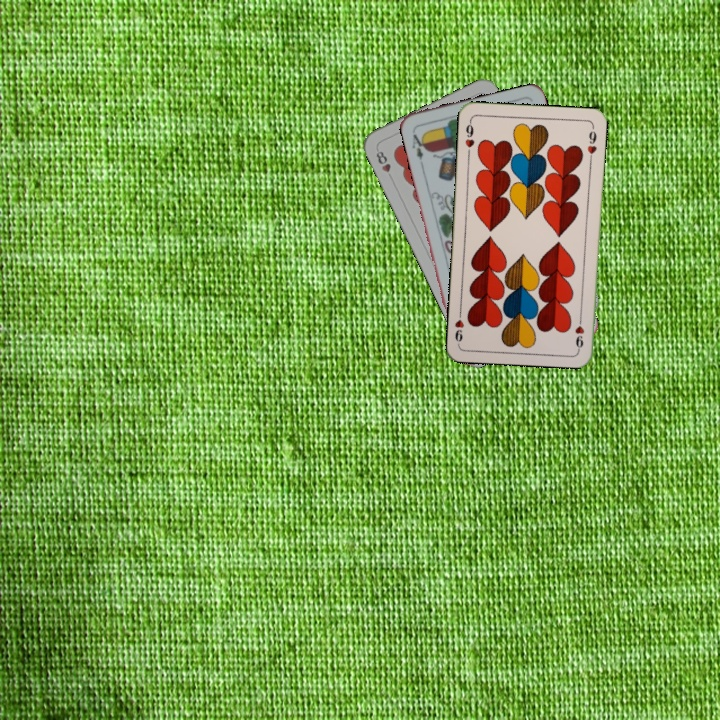EA: (408, 127, 429, 162)
H8: (372, 147, 396, 183)
H9: (571, 311, 587, 352), (461, 117, 477, 157)
